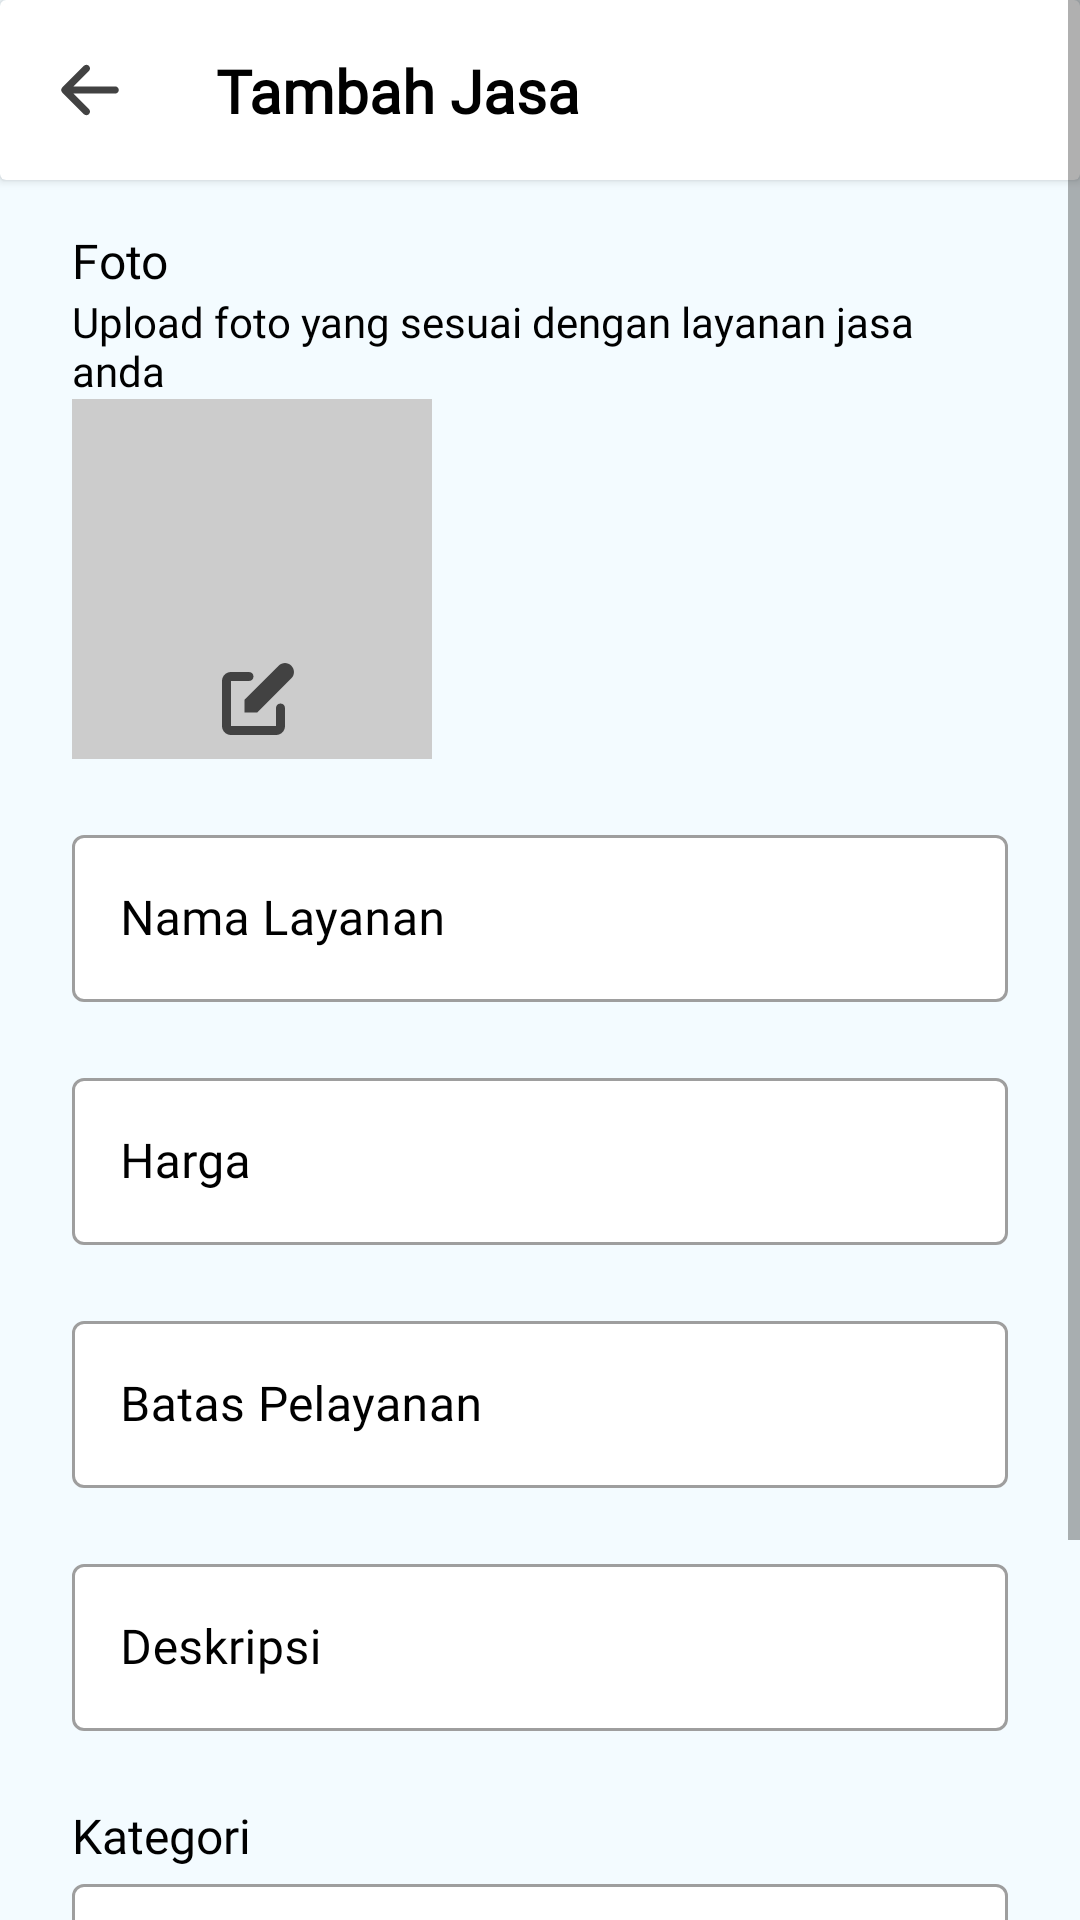

Where to tap for icons on this 1080w x 1920h app screen, as [x,y]:
edit button: [258,699]
